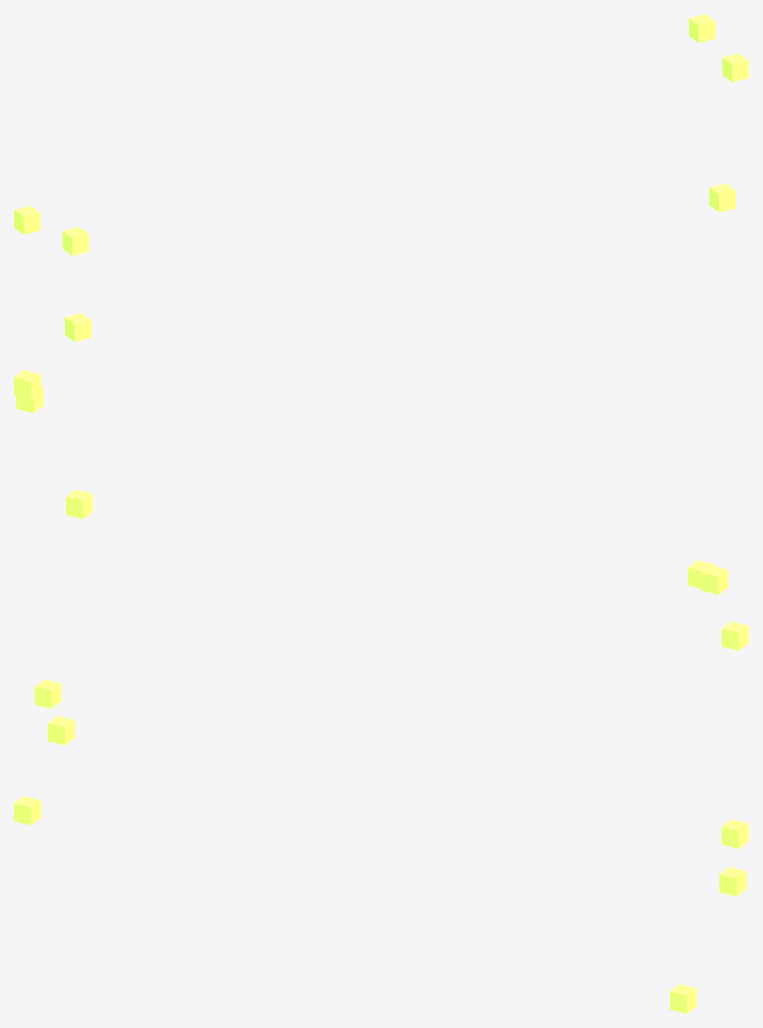
Rendered from powerup-arcade-v1-accessories.fbx.
The picture shows the model from 3 angles, top to bottom: view 1: azimuth 30°, elevation 25°; view 2: azimuth 150°, elevation 25°; view 3: azimuth 330°, elevation 25°; orthographic projection.
Visible parts, largest first — view 1: PowerSpark_3, PowerSpark_0, PowerSpark_5, PowerSpark_2, PowerSpark_4, PowerSpark_1; view 2: PowerSpark_5, PowerSpark_1, PowerSpark_4, PowerSpark_0; view 3: PowerSpark_2, PowerSpark_3, PowerSpark_5, PowerSpark_1, PowerSpark_4, PowerSpark_0.
Part boxes in pixels (x1,y1,x2,y2): PowerSpark_3: (62,227,89,255); PowerSpark_0: (709,183,735,212); PowerSpark_5: (14,206,40,234); PowerSpark_2: (722,53,748,82); PowerSpark_4: (689,14,715,42); PowerSpark_1: (65,313,91,341); PowerSpark_5: (701,565,728,594); PowerSpark_1: (721,621,748,650); PowerSpark_4: (14,370,41,399); PowerSpark_0: (66,489,92,518); PowerSpark_2: (719,867,746,896); PowerSpark_3: (47,716,74,745); PowerSpark_5: (34,679,61,708); PowerSpark_1: (14,796,41,825); PowerSpark_4: (721,819,748,848); PowerSpark_0: (670,984,696,1013).
Bounding box in the file's own units: 1377 × 293 × 153.
